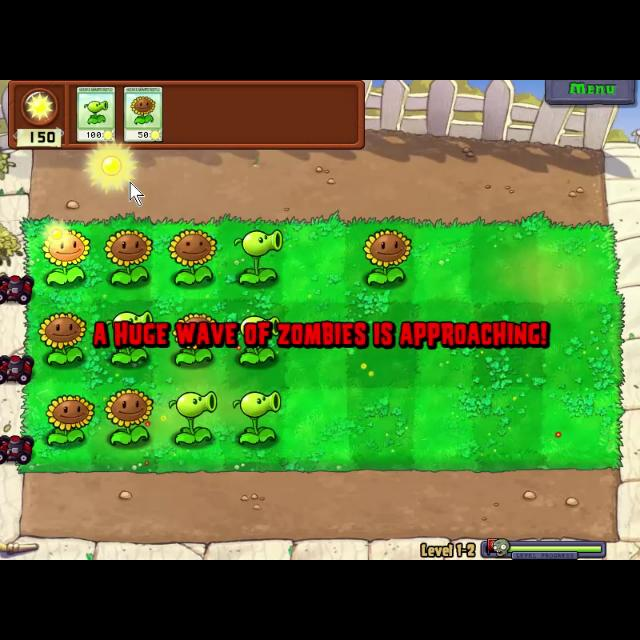Garden: (19, 208, 626, 476)
Menu Button: (542, 80, 638, 106)
Mower: (0, 351, 34, 387), (0, 432, 36, 466), (0, 272, 32, 304)
Peashooter: (76, 85, 118, 143)
Peashooter Seed: (229, 386, 287, 448), (229, 224, 285, 286), (232, 306, 288, 364), (102, 311, 154, 369), (166, 386, 214, 446)
Seed Panel: (6, 80, 368, 152)
Sun: (86, 140, 138, 197)
Sunflower: (122, 84, 164, 144)
Sunflower Seed: (40, 391, 96, 453), (361, 226, 414, 288), (166, 311, 220, 371), (100, 226, 152, 288), (164, 225, 216, 287), (38, 230, 92, 288), (104, 387, 152, 447), (36, 308, 84, 367)
